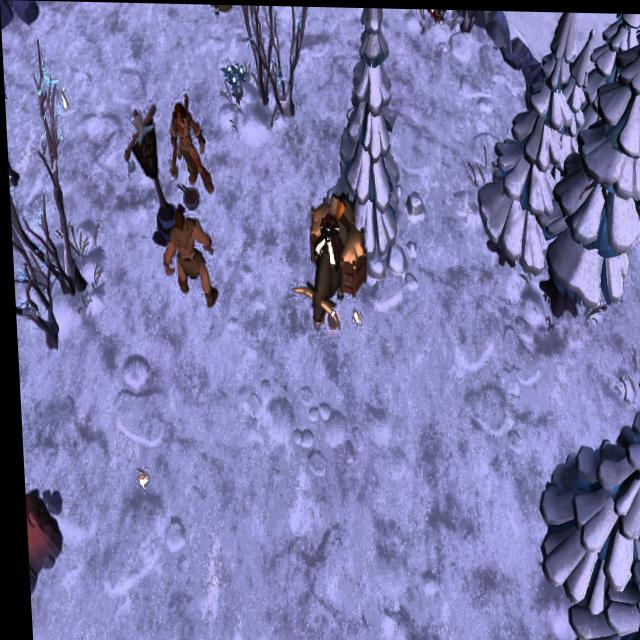enemy_factionKeeper: (164, 205, 222, 311), (166, 92, 215, 191)
fiber_t4: (220, 59, 250, 110)
rock_t5: (19, 476, 59, 585)
